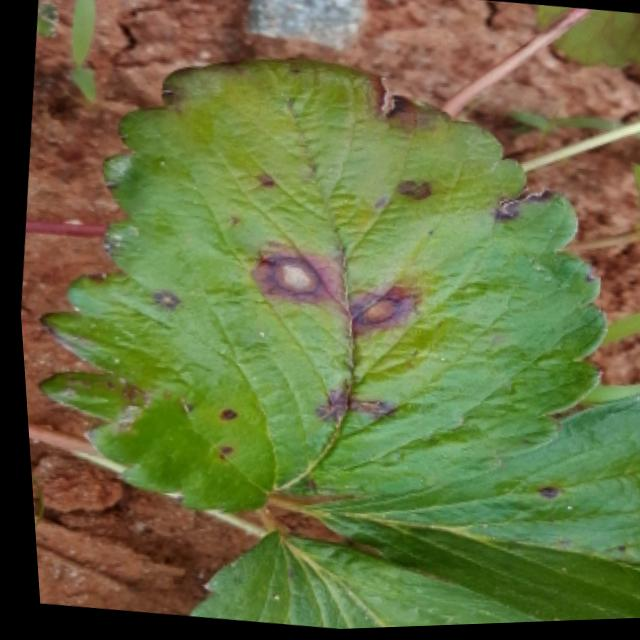Leaf Spot: (28, 56, 603, 517), (291, 395, 640, 626), (177, 530, 528, 631)
